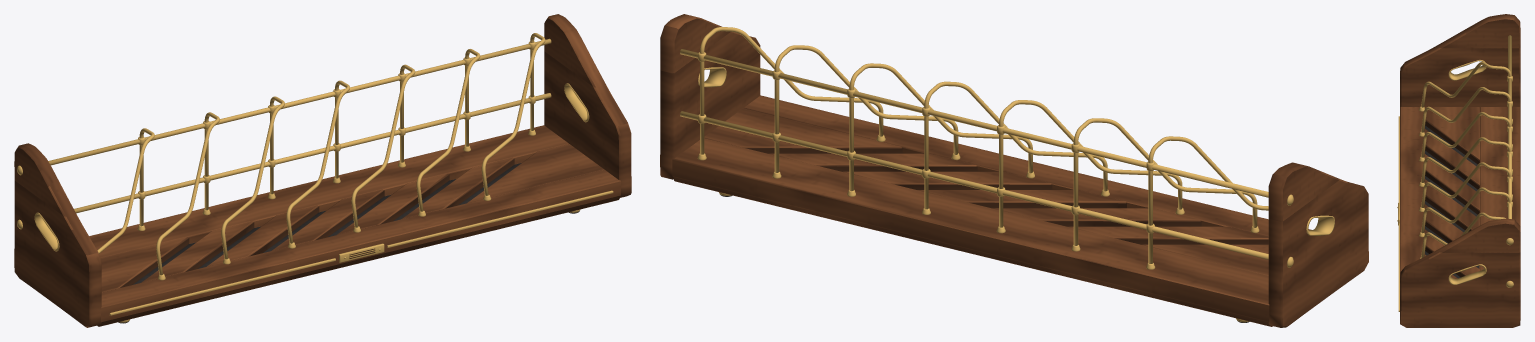
Rendered from vinyl-rack.glb.
The picture shows the model from 3 angles, left to right: view 1: azimuth 30°, elevation 25°; view 2: azimuth 150°, elevation 25°; view 3: azimuth 270°, elevation 25°; orthographic projection. The views are drawn at different scales.
Parts seen in each view (by area): view 1: Rack_Base_FrontRail, Rack_Base_RearRail, Rack_Cheek_Left, Rack_Cheek_Right, Rack_Base_LowerSlab, Rack_Base_RibLand_6, Rack_RearBrassRail_High, Rack_RearBrassRail_Low, Rack_Base_RibLand_0, Rack_Base_RibLand_1, Rack_Base_RibLand_3, Rack_Base_RibLand_4 (+11 smaller); view 2: Rack_Base_RearRail, Rack_Cheek_Left, Rack_Cheek_Right, Rack_Base_FrontRail, Rack_Base_LowerSlab, Rack_RearBrassRail_Low, Rack_Base_RibLand_6, Rack_RearBrassRail_High, Rack_Base_RibLand_1, Rack_Base_RibLand_5, Rack_Base_RibLand_4, Rack_Base_RibLand_0 (+15 smaller); view 3: Rack_Cheek_Right, Rack_Cheek_Left, Rack_Base_RearRail, Rack_Base_FrontRail, Rack_Base_RibLand_0, Rack_Base_RibLand_1, Rack_Base_RibLand_2, Rack_Base_RibLand_3, Rack_RearBrassRail_High, Rack_Base_RibLand_4, Rack_BrassDivider_4, Rack_BrassDivider_1 (+19 smaller).
Boxes of the visible parts, x1,y1,x2,y2 form: Rack_Base_FrontRail: [101, 169, 620, 314]; Rack_Base_RearRail: [89, 125, 568, 258]; Rack_Cheek_Left: [14, 143, 101, 327]; Rack_Cheek_Right: [544, 14, 631, 197]; Rack_Base_LowerSlab: [97, 163, 620, 326]; Rack_Base_RibLand_6: [467, 144, 604, 203]; Rack_RearBrassRail_High: [48, 38, 551, 165]; Rack_RearBrassRail_Low: [74, 93, 551, 213]; Rack_Base_RibLand_0: [100, 237, 187, 292]; Rack_Base_RibLand_1: [142, 221, 252, 282]; Rack_Base_RibLand_3: [272, 189, 382, 250]; Rack_Base_RibLand_4: [337, 173, 448, 234]; Rack_Base_RearRail: [672, 138, 1269, 312]; Rack_Cheek_Left: [1268, 162, 1368, 327]; Rack_Cheek_Right: [660, 14, 760, 179]; Rack_Base_FrontRail: [744, 95, 1311, 236]; Rack_Base_LowerSlab: [672, 167, 1272, 326]; Rack_RearBrassRail_Low: [680, 111, 1268, 259]; Rack_Base_RibLand_6: [704, 108, 901, 148]; Rack_RearBrassRail_High: [680, 49, 1268, 197]; Rack_Base_RibLand_1: [1068, 226, 1268, 239]; Rack_Base_RibLand_5: [768, 153, 976, 166]; Rack_Base_RibLand_4: [842, 171, 1051, 184]; Rack_Base_RibLand_0: [1141, 244, 1268, 275]; Rack_Cheek_Right: [1400, 218, 1520, 327]; Rack_Cheek_Left: [1400, 14, 1520, 107]; Rack_Base_RearRail: [1480, 107, 1520, 270]; Rack_Base_FrontRail: [1400, 107, 1423, 274]; Rack_Base_RibLand_0: [1424, 107, 1479, 162]; Rack_Base_RibLand_1: [1424, 129, 1479, 188]; Rack_Base_RibLand_2: [1424, 154, 1479, 213]; Rack_Base_RibLand_3: [1424, 179, 1479, 229]; Rack_RearBrassRail_High: [1508, 35, 1511, 218]; Rack_Base_RibLand_4: [1424, 204, 1463, 240]; Rack_BrassDivider_4: [1421, 162, 1511, 207]; Rack_BrassDivider_1: [1421, 87, 1511, 132].
Bounding box in the file's own units: 1.23 × 0.3087 × 0.3025.
Materials: 4 (4 with a texture image).
